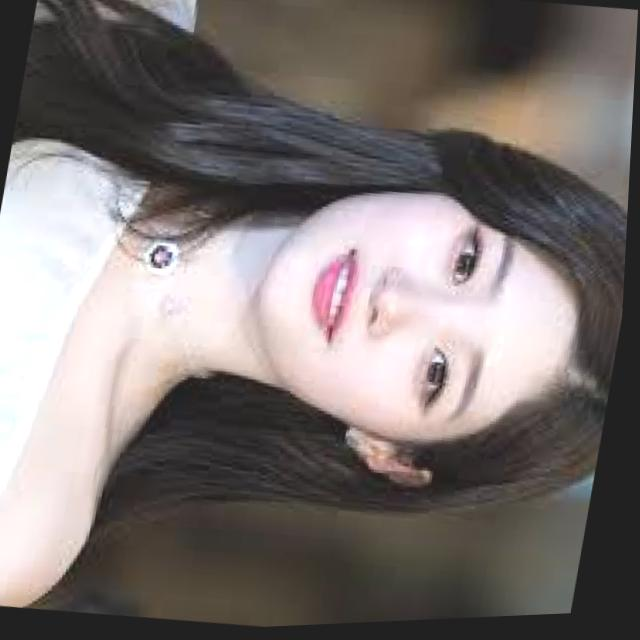face: (240, 171, 609, 459)
